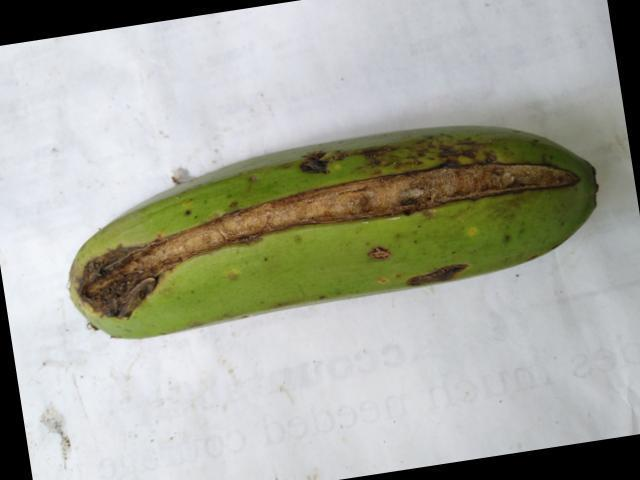rotten: (75, 131, 594, 325)
